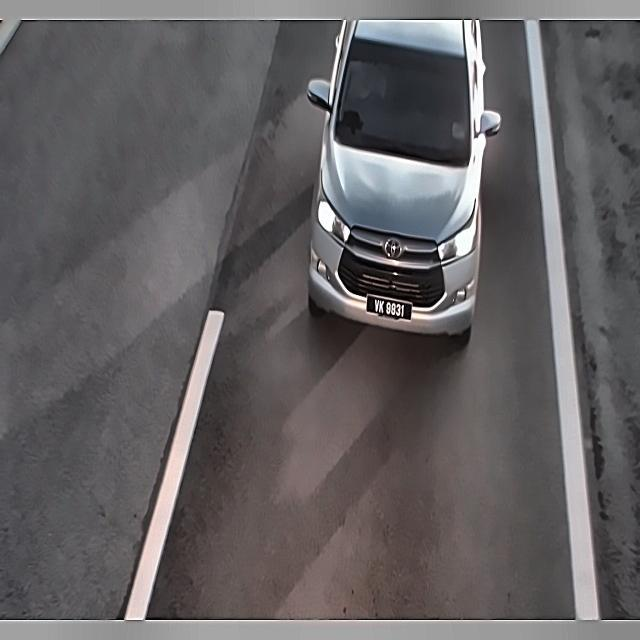car: (362, 289, 419, 324)
